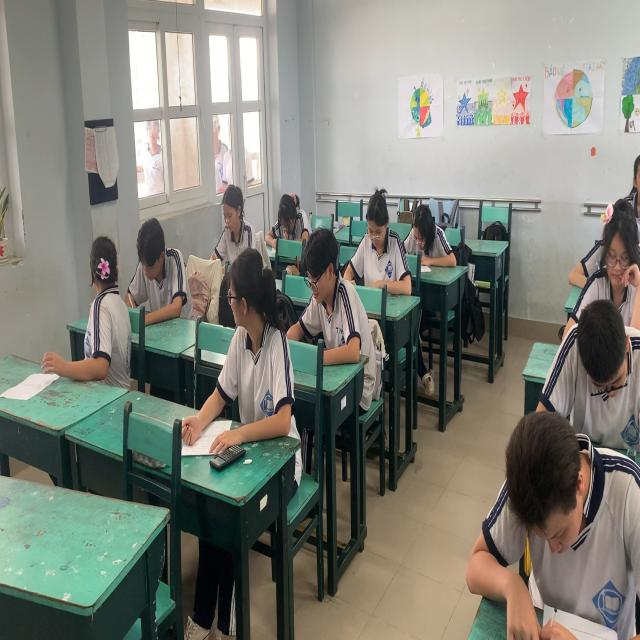cheating: (206, 247, 290, 447), (81, 230, 136, 382)
not_cheating: (486, 413, 632, 634), (297, 233, 375, 365), (552, 302, 636, 417), (124, 219, 188, 320), (595, 213, 640, 302), (210, 189, 256, 244), (404, 205, 442, 261), (358, 188, 389, 254), (269, 189, 305, 237)
